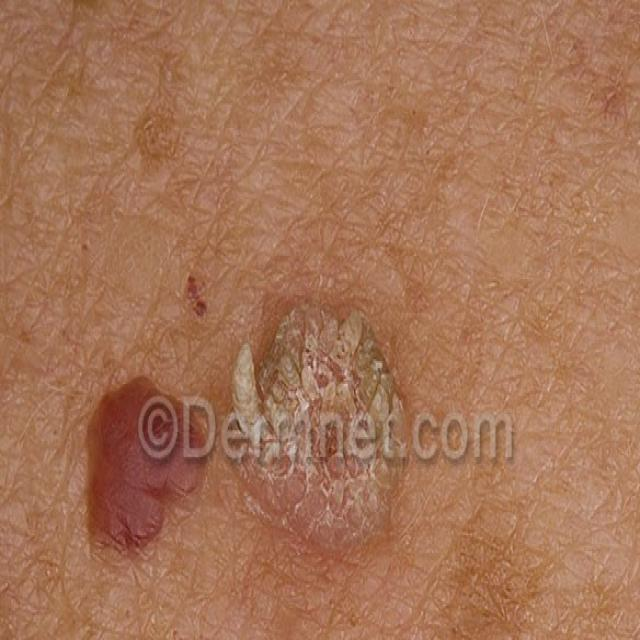Warts: (223, 296, 435, 557), (65, 333, 210, 620)
